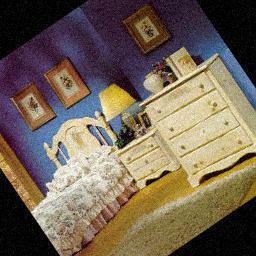Armario: (146, 55, 256, 188)
